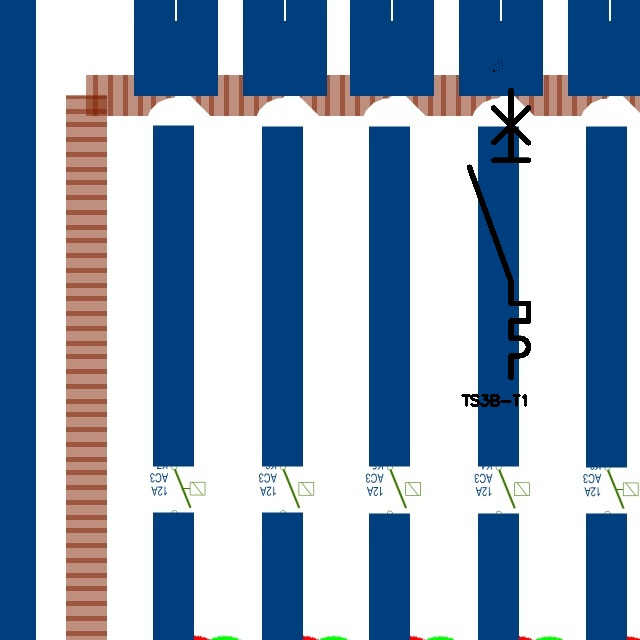interruptor_termomagnetico: (462, 83, 536, 385)
